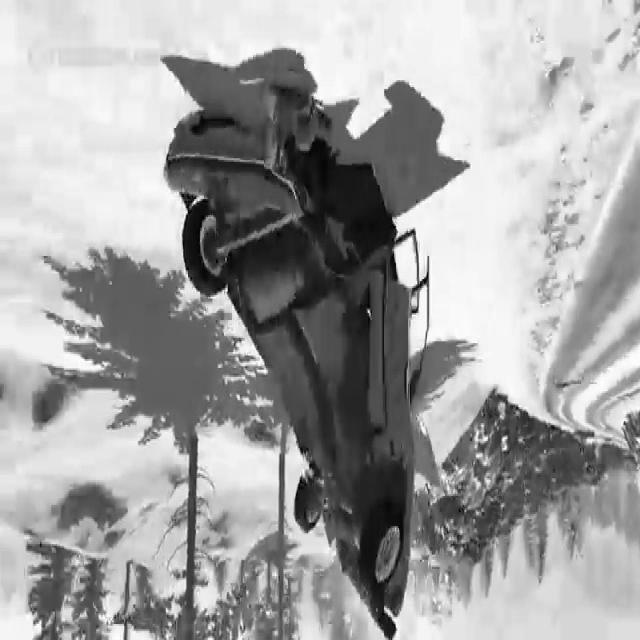severe: (157, 80, 446, 630)
